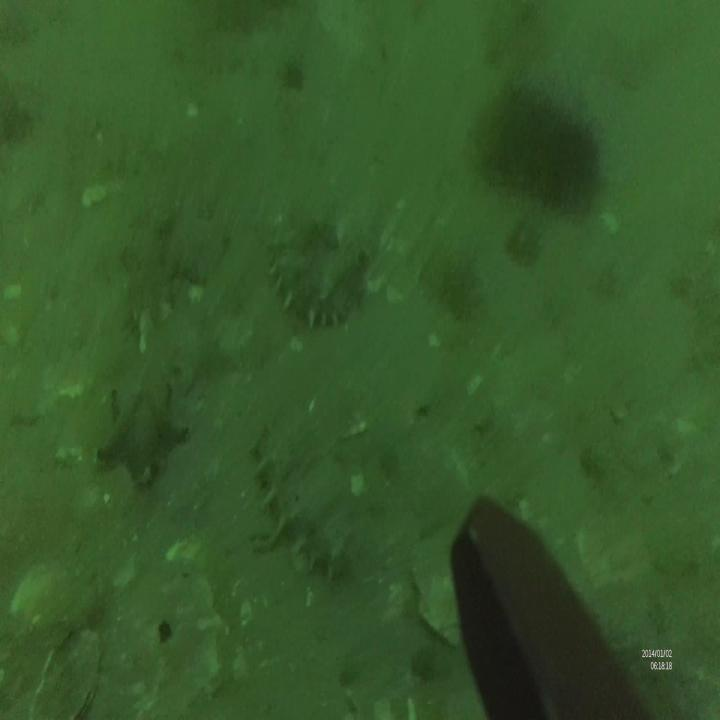holothurian: (250, 438, 336, 588), (272, 226, 367, 340)
starfish: (99, 378, 178, 494)
